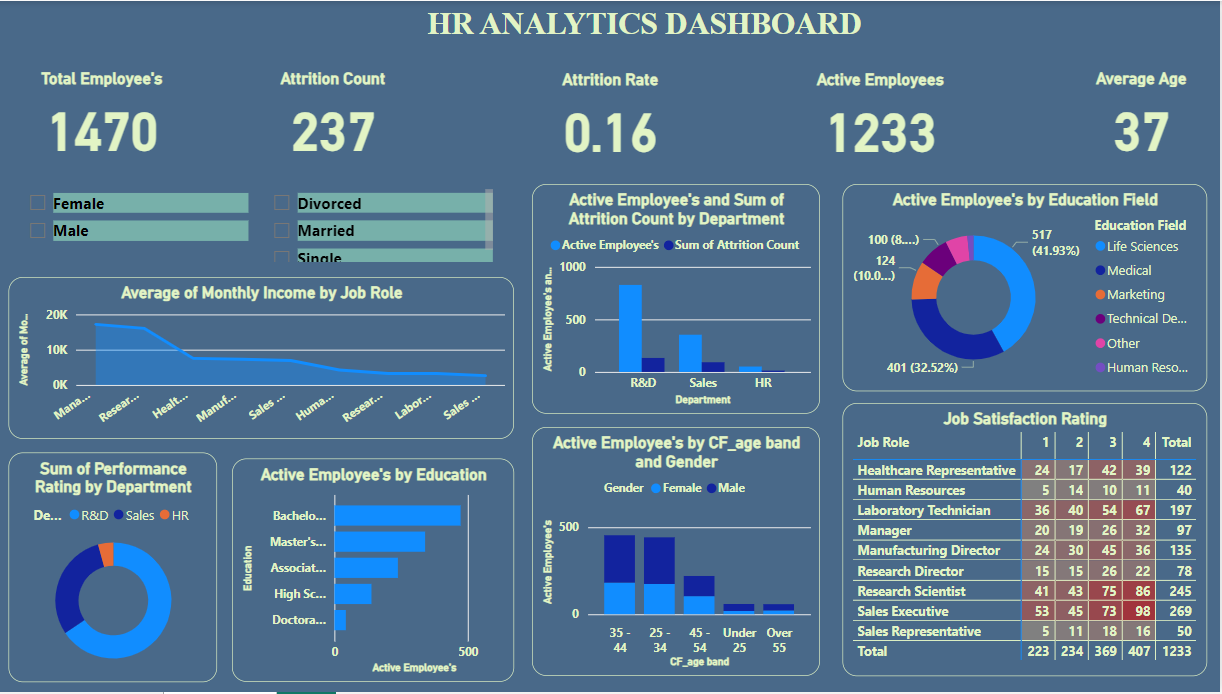

The dashboard page shown, as its layout file describes it:
{"tool":"powerbi","page":{"name":"Page 1","canvas":[1280,720],"ordinal":0},"visuals":[{"type":"card","title":"Total Employee''s","fields":{"Values":["Sum(HR data.Employee Count)"]},"box":[31.3,70.3,166.3,96.9],"z":0,"group":"g1"},{"type":"clusteredColumnChart","fields":{"Category":["HR data.Department"],"Y":["HR data.Active Employee's","Sum(HR data.Attrition Count)"]},"box":[562.7,190.7,300.1,239.1],"z":0},{"type":"card","title":"Attrition Rate","fields":{"Values":["HR data.Attrition Rate"]},"box":[560.6,71.9,166.3,96.9],"z":1000,"group":"g1"},{"type":"donutChart","fields":{"Y":["HR data.Active Employee's"],"Category":["HR data.Education Field"]},"box":[886.2,190.7,379.8,215.7],"z":1000},{"type":"card","title":"Attrition Count","fields":{"Values":["Sum(HR data.Attrition Count)"]},"box":[272.8,70.3,166.3,96.9],"z":2000,"group":"g1"},{"type":"columnChart","fields":{"Y":["HR data.Active Employee's"],"Category":["HR data.CF_age band"],"Series":["HR data.Gender"]},"box":[562.7,443.9,300.1,259.5],"z":2000},{"type":"card","title":" Average Age","fields":{"Values":["Avg(HR data.Age)"]},"box":[1113.8,70.3,166.3,96.9],"z":3000,"group":"g1"},{"type":"pivotTable","title":"Job Satisfaction Rating","fields":{"Rows":["HR data.Job Role"],"Values":["HR data.Active Employee's"],"Columns":["HR data.Job Satisfaction"]},"box":[886.2,418.9,379.8,284.5],"z":3000},{"type":"card","title":"Active Employees","fields":{"Values":["HR data.Active Employee's"]},"box":[842,71.9,166.3,96.9],"z":4000,"group":"g1"},{"type":"donutChart","fields":{"Y":["Sum(HR data.Performance Rating)"],"Category":["HR data.Department"]},"box":[17.2,470.5,217.3,239.1],"z":4000},{"type":"clusteredBarChart","fields":{"Category":["HR data.Education"],"Y":["HR data.Active Employee's"]},"box":[250.1,476.7,293.8,232.9],"z":5000},{"type":"areaChart","fields":{"Category":["HR data.Job Role"],"Y":["Avg(HR data.Monthly Income)"]},"box":[17.2,287.6,526.7,168.8],"z":6000},{"type":"slicer","fields":{"Values":["HR data.Gender"]},"box":[26.6,190.7,245.4,86],"z":7000},{"type":"slicer","fields":{"Values":["HR data.Marital Status"]},"box":[281.3,190.7,245.4,86],"z":8000},{"type":"group","id":"g1","title":"Group 1","box":[31.3,70.3,1248.8,98.5],"z":9000},{"type":"textbox","box":[448.6,0,526.7,50],"z":9001}]}

Visuals, with their boxes in screenshot pixels (x1, y1, x2, y2), scaled from the page's 1280x720 canvas onto the 1222x694 screenshot:
"Total Employee''s" card: l=30, t=68, r=189, b=161
clusteredColumnChart - HR data.Department x HR data.Active Employee's: l=537, t=184, r=824, b=414
"Attrition Rate" card: l=535, t=69, r=694, b=163
donutChart - HR data.Active Employee's x HR data.Education Field: l=846, t=184, r=1209, b=392
"Attrition Count" card: l=260, t=68, r=419, b=161
columnChart - HR data.Active Employee's x HR data.CF_age band: l=537, t=428, r=824, b=678
" Average Age" card: l=1063, t=68, r=1221, b=161
"Job Satisfaction Rating" pivotTable: l=846, t=404, r=1209, b=678
"Active Employees" card: l=804, t=69, r=963, b=163
donutChart - Sum(HR data.Performance Rating) x HR data.Department: l=16, t=454, r=224, b=684
clusteredBarChart - HR data.Education x HR data.Active Employee's: l=239, t=459, r=519, b=684
areaChart - HR data.Job Role x Avg(HR data.Monthly Income): l=16, t=277, r=519, b=440
slicer - HR data.Gender: l=25, t=184, r=260, b=267
slicer - HR data.Marital Status: l=269, t=184, r=503, b=267
"Group 1" group: l=30, t=68, r=1221, b=163
textbox: l=428, t=0, r=931, b=48
